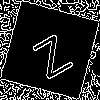Z: (25, 25, 75, 81)
